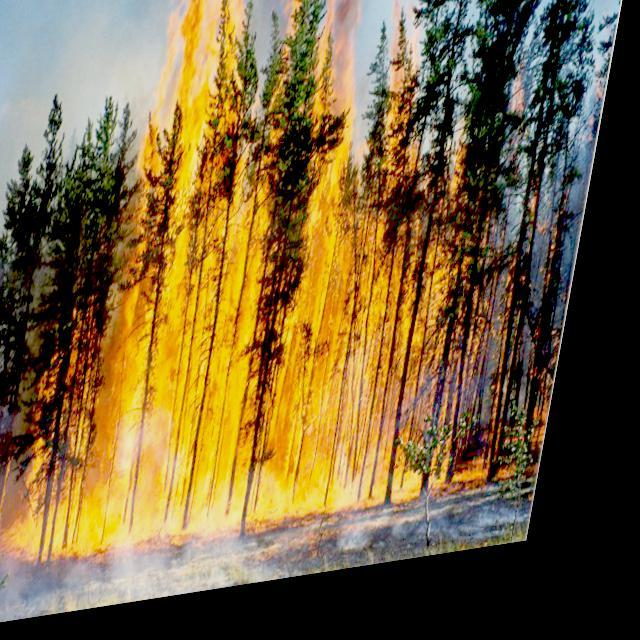Fire: (6, 0, 554, 573)
